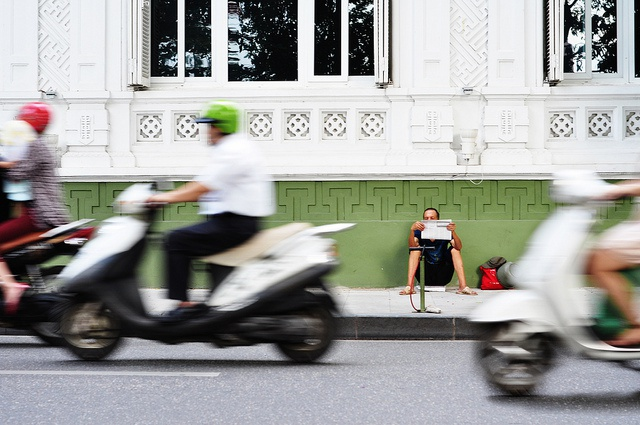non-vehicle: (50, 180, 358, 363), (465, 161, 639, 396), (0, 217, 99, 348)
